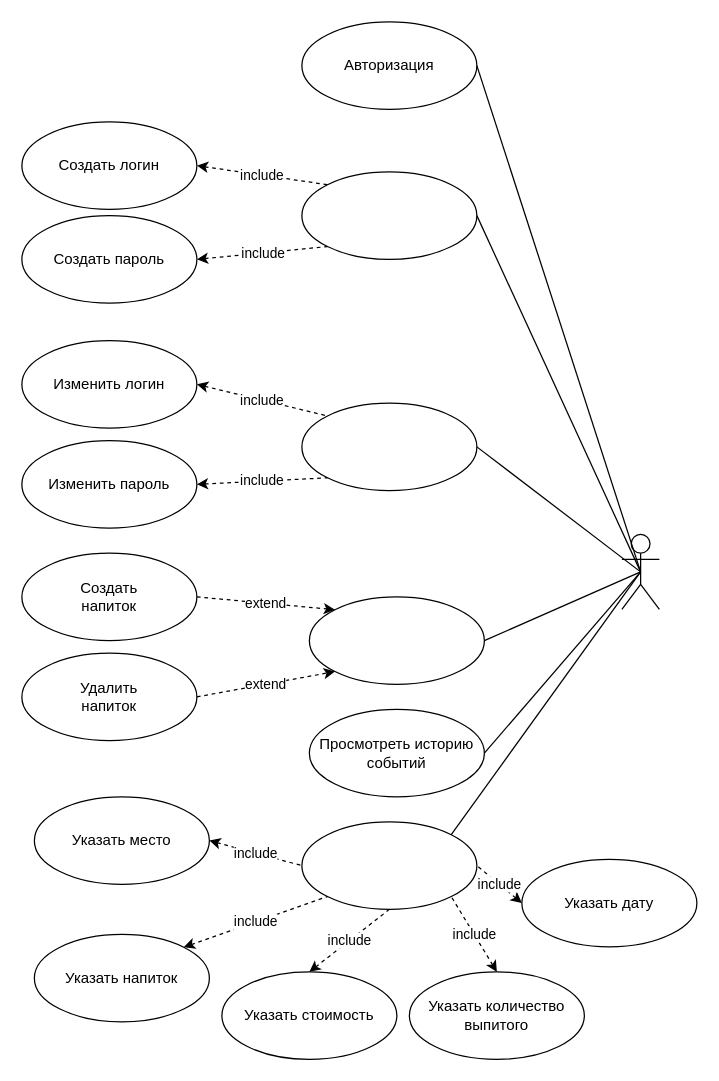
The diagram is 719 pixels wide and 1081 high, and some of its shapes have lost their labels. Each missing label, with the centre of its shape:
"Пользователь" goes at point (640, 571).
"Просмотреть список напитков" goes at point (396, 640).
"Регистрация" goes at point (389, 215).
"Редактировать профиль" goes at point (389, 446).
"Создать событие" goes at point (389, 865).
